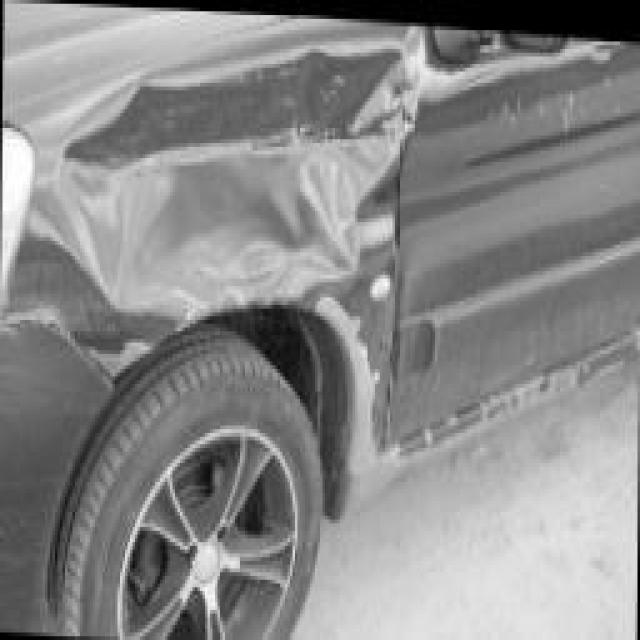Fender: (42, 26, 385, 346)
